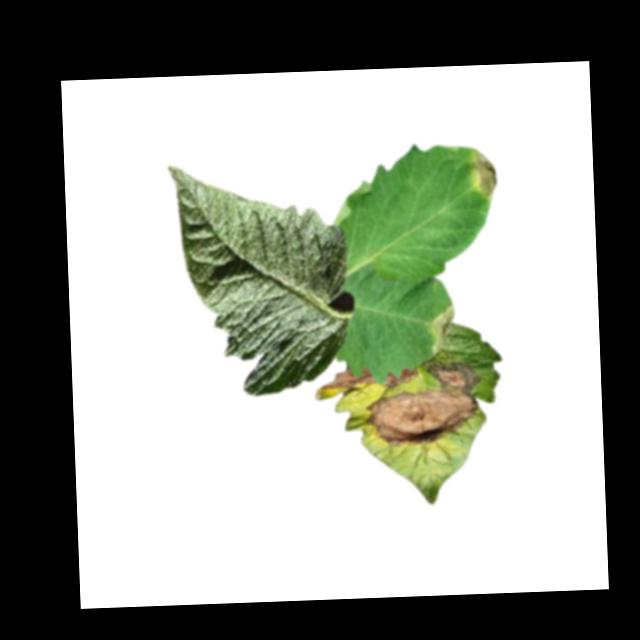Late_blight: (363, 357, 482, 446), (466, 146, 500, 203), (429, 304, 458, 354), (319, 367, 375, 390), (385, 367, 417, 388)
healthy: (166, 157, 350, 398)
